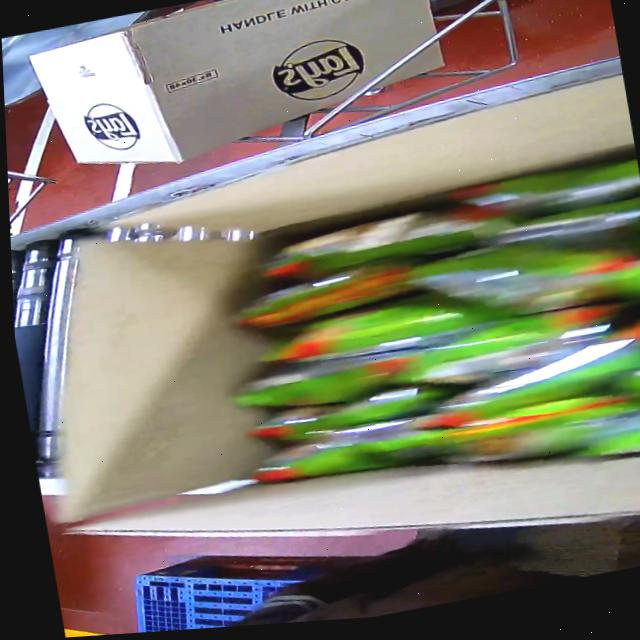YOGURT_HERB: (229, 162, 640, 526)
